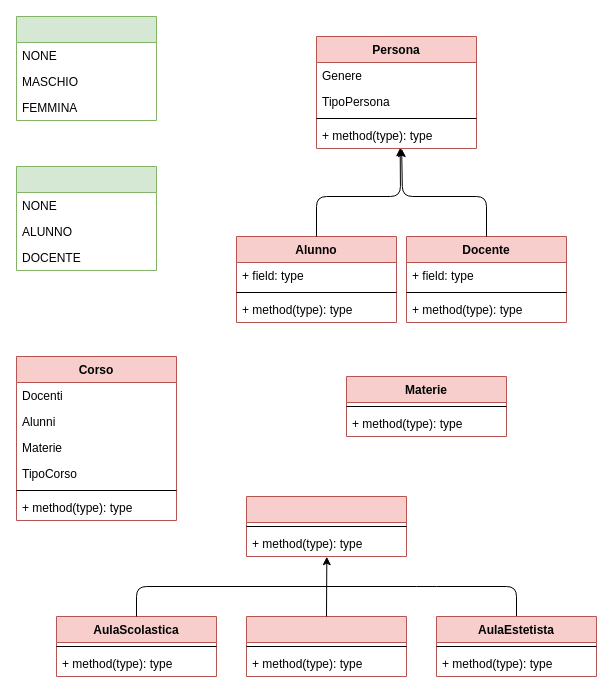
The diagram is 613 pixels wide and 693 high, and some of its shapes have lost their labels. The shapes that lost their labels are listed below. From the top down, each one's box as (x1, y1, x2, y2) in pixels, then its label:
(16, 16, 156, 120): Genere (Enum)
(16, 166, 156, 270): TipoPersona (Enum)
(246, 496, 406, 556): Aula
(246, 616, 406, 676): AulaInformatica
